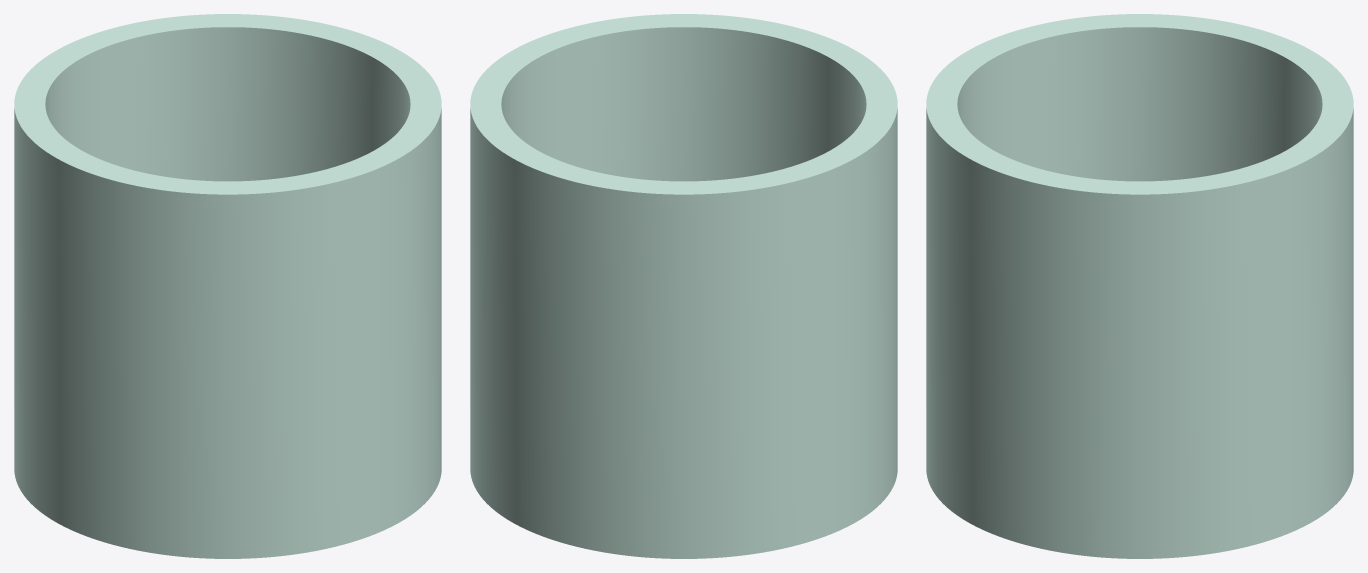
The picture shows the model from 3 angles, left to right: view 1: azimuth 30°, elevation 25°; view 2: azimuth 150°, elevation 25°; view 3: azimuth 270°, elevation 25°; orthographic projection.
Visible parts, largest first — view 1: Renderer Node; view 2: Renderer Node; view 3: Renderer Node.
Boxes of the visible parts, <box> form: Renderer Node: <box>14,14,441,558</box>; Renderer Node: <box>470,14,897,558</box>; Renderer Node: <box>926,14,1353,558</box>.
Bounding box in the file's own units: 0.7971 × 0.75 × 0.7974.
